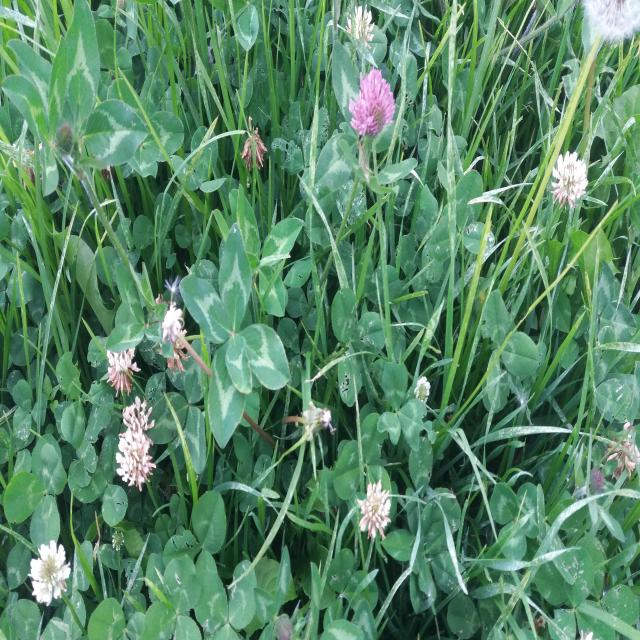Four Leaf Clover: (179, 221, 292, 448)
